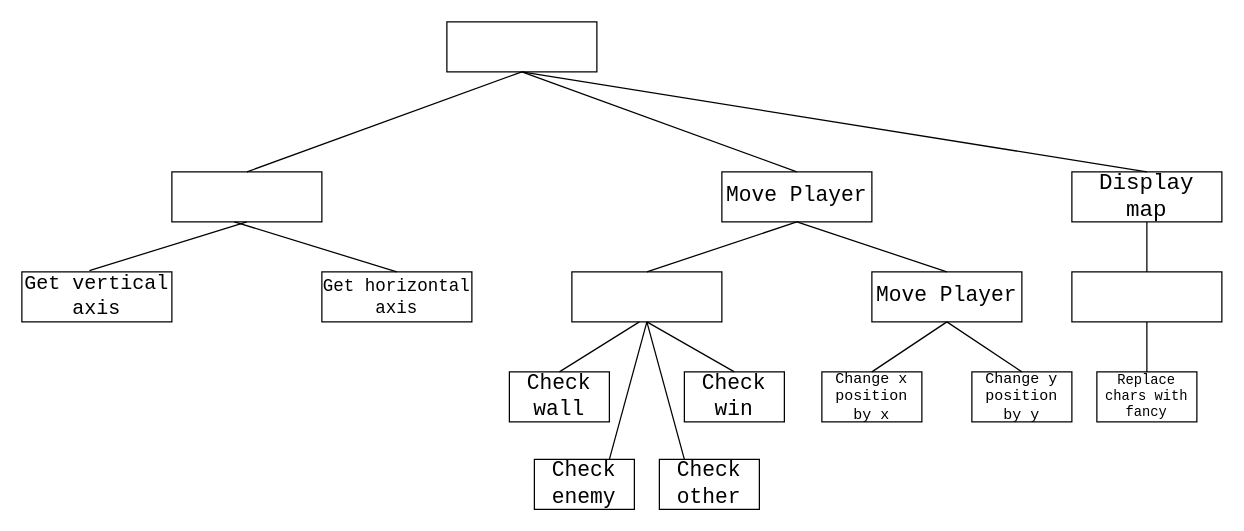
The diagram is 1244 pixels wide and 531 high, and some of its shapes have lost their labels. Each missing label, with the centre of its shape:
Adventure Game: [521,46]
Check collisions: [646,296]
Get Movement: [246,196]
Print each line: [1146,296]
